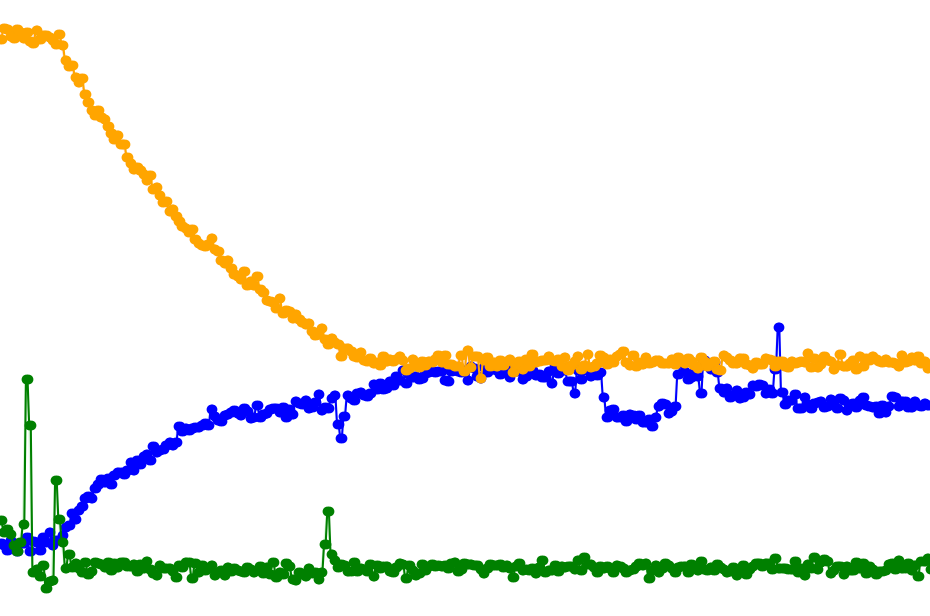CO2 Problem: (116, 0, 930, 616), (622, 0, 930, 616), (38, 0, 116, 616)
Condensation (CO2): (116, 0, 349, 616), (38, 0, 116, 616)
Low CO2: (272, 0, 930, 616), (311, 0, 622, 616), (622, 0, 930, 616), (116, 0, 349, 616), (38, 0, 116, 616)
Normal: (38, 0, 930, 616), (116, 0, 930, 616), (272, 0, 930, 616), (38, 0, 505, 616), (272, 0, 622, 616), (38, 0, 349, 616), (311, 0, 622, 616), (622, 0, 930, 616), (116, 0, 272, 616), (0, 0, 116, 616), (38, 0, 116, 616), (272, 0, 311, 616)
O2 Problem: (116, 0, 930, 616), (311, 0, 622, 616), (622, 0, 930, 616), (388, 0, 622, 616), (116, 0, 272, 616)
